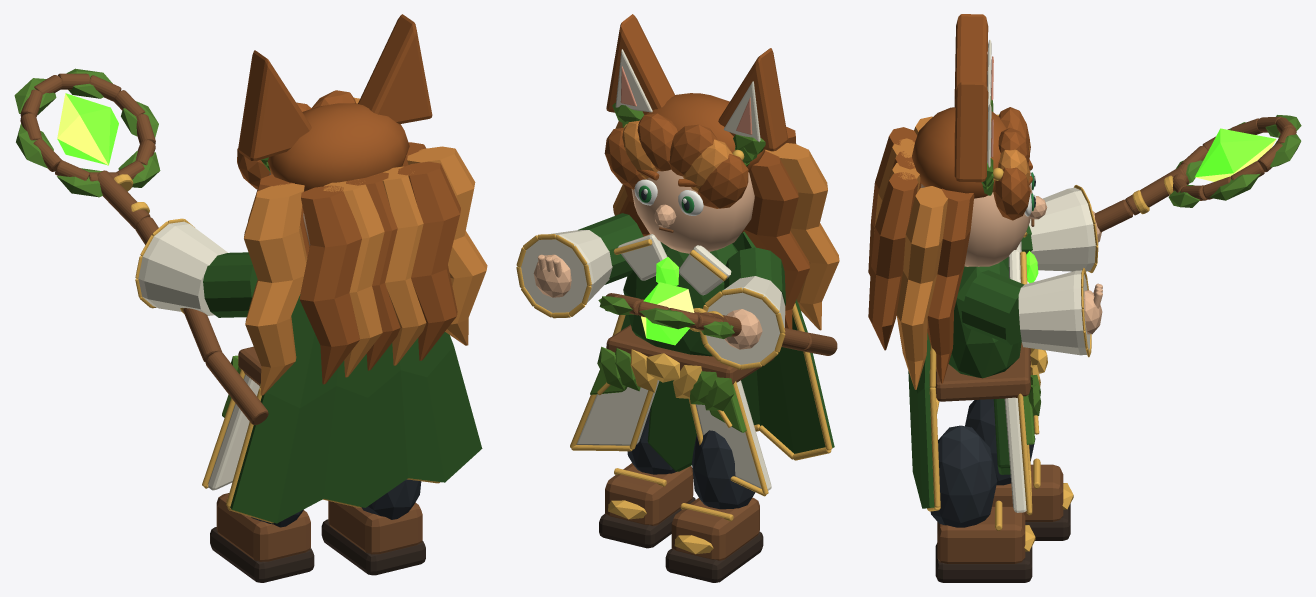
File: luna-return.glb
3 views of the same model, side by side, from view 1: azimuth 30°, elevation 25°; view 2: azimuth 150°, elevation 25°; view 3: azimuth 270°, elevation 25° (orthographic). The views are drawn at different scales.
Parts seen in each view (by area): view 1: Luna surface 19, Luna surface 34, Luna surface 33, Luna surface 27, Luna surface 48, Luna surface 42, Luna surface 35, Luna surface 30, Luna surface 49, Luna surface 02, Luna surface 06, Luna surface 51 (+8 smaller); view 2: Luna surface 27, Luna surface 19, Luna surface 09, Luna surface 33, Luna surface 34, Luna surface 23, Luna surface 44, Luna surface 42, Luna surface 02, Luna surface 06, Luna surface 03, Luna surface 13 (+31 smaller); view 3: Luna surface 33, Luna surface 34, Luna surface 27, Luna surface 07, Luna surface 44, Luna surface 09, Luna surface 42, Luna surface 48, Luna surface 06, Luna surface 41, Luna surface 23, Luna surface 35 (+15 smaller).
Part boxes in pixels (box(x1,y1,x2,y2)): Luna surface 19: box(230, 296, 482, 523); Luna surface 34: box(244, 146, 487, 395); Luna surface 33: box(248, 142, 460, 384); Luna surface 27: box(237, 90, 409, 191); Luna surface 48: box(20, 73, 268, 425); Luna surface 42: box(138, 221, 228, 315); Luna surface 35: box(358, 14, 432, 124); Luna surface 30: box(238, 50, 311, 161); Luna surface 49: box(14, 68, 160, 197); Luna surface 02: box(216, 493, 310, 561); Luna surface 06: box(328, 501, 422, 554); Luna surface 51: box(57, 93, 118, 165); Luna surface 27: box(604, 93, 765, 208); Luna surface 19: box(621, 231, 834, 453); Luna surface 09: box(623, 242, 737, 471); Luna surface 33: box(619, 126, 809, 329); Luna surface 34: box(613, 121, 839, 330); Luna surface 23: box(631, 169, 754, 253); Luna surface 44: box(521, 230, 612, 312); Luna surface 42: box(706, 276, 785, 364); Luna surface 02: box(671, 497, 759, 560); Luna surface 06: box(605, 463, 693, 525); Luna surface 03: box(692, 430, 755, 509); Luna surface 13: box(576, 380, 659, 445); Luna surface 33: box(868, 127, 974, 383); Luna surface 34: box(874, 116, 948, 389); Luna surface 27: box(912, 107, 1032, 220); Luna surface 07: box(930, 425, 997, 527); Luna surface 44: box(1018, 270, 1090, 355); Luna surface 09: box(948, 257, 1021, 474); Luna surface 42: box(1029, 187, 1095, 271); Luna surface 48: box(1094, 116, 1296, 232); Luna surface 06: box(937, 506, 1025, 563); Luna surface 41: box(961, 270, 1024, 345); Luna surface 23: box(921, 184, 1047, 266); Luna surface 35: box(954, 82, 988, 182).
Size of the model in its own units: 2.28 by 3.79 by 2.96.
